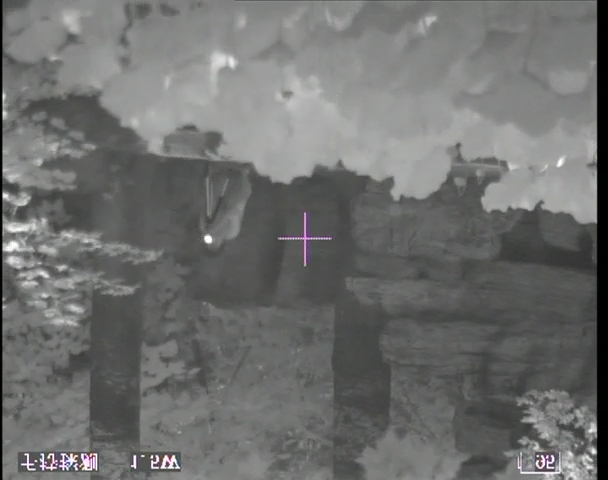my: (202, 233, 215, 245)
